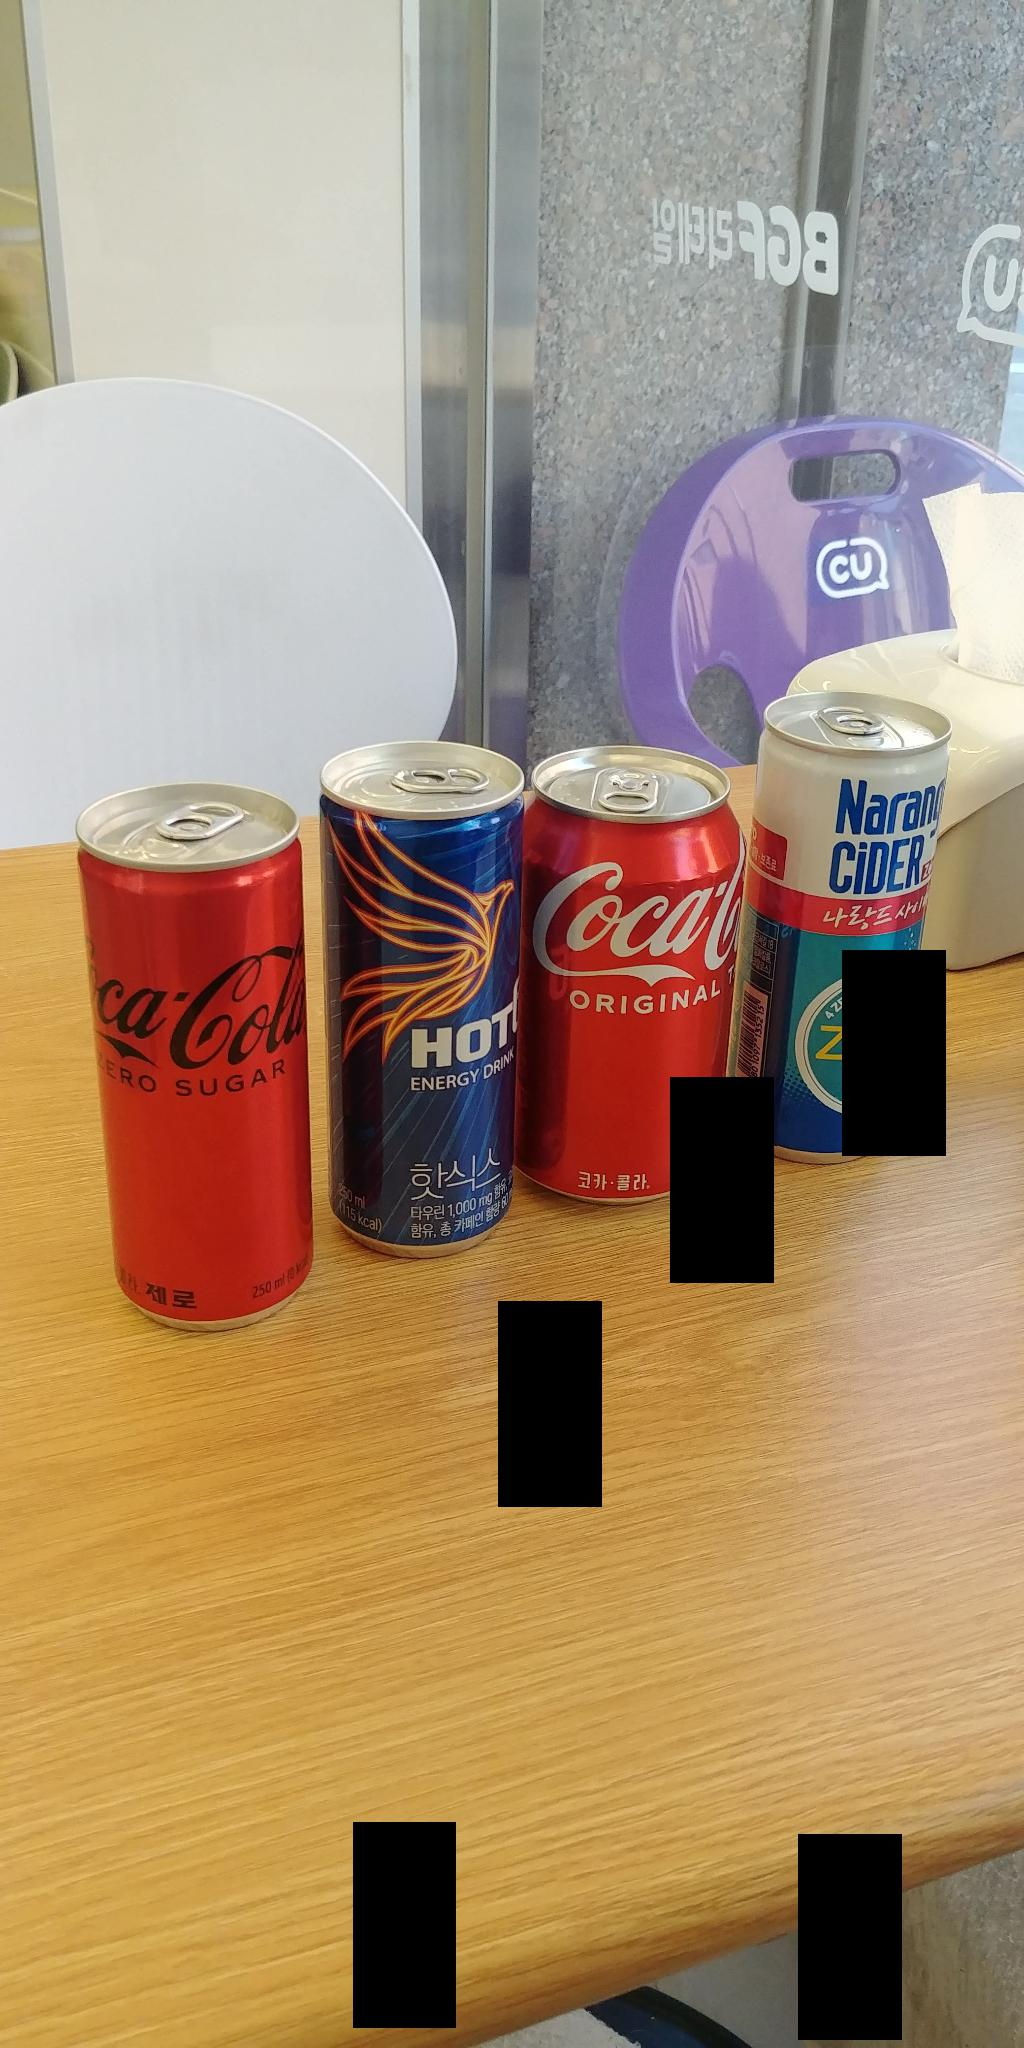cocacola: (543, 754, 717, 1211)
hotsix_org: (330, 742, 517, 1247)
narangdcider: (775, 679, 940, 1145)
